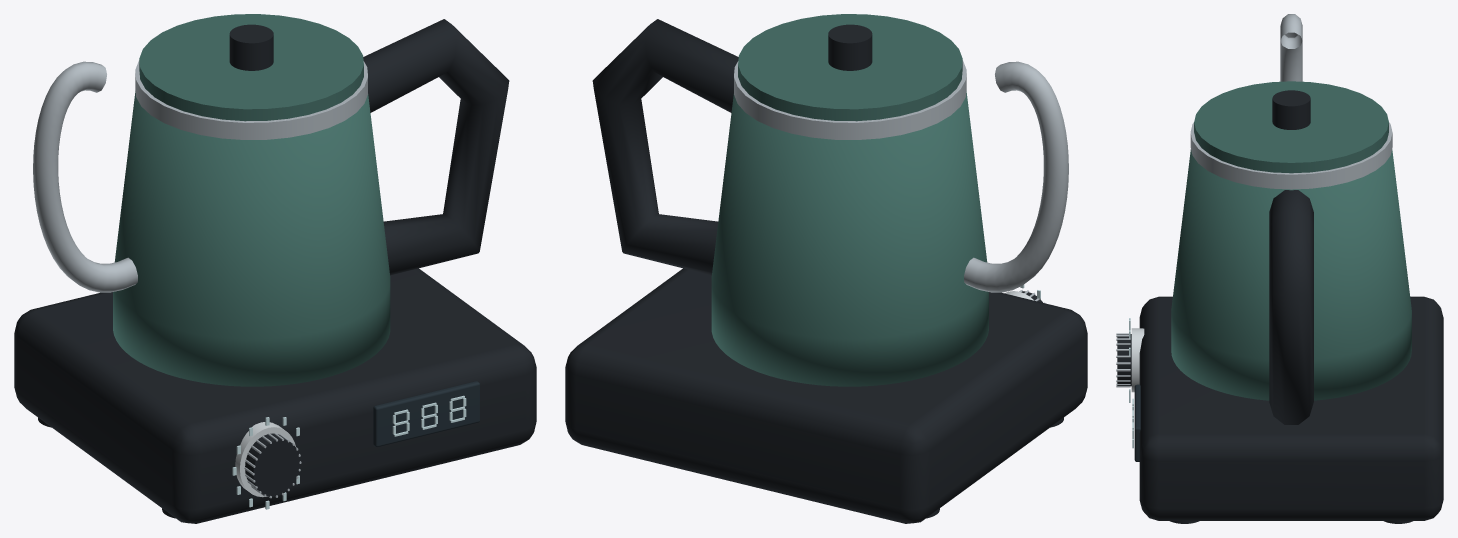
The model's file is gooseneck-pro-kettle.glb.
3 renders of one model, left to right at view 1: azimuth 30°, elevation 25°; view 2: azimuth 150°, elevation 25°; view 3: azimuth 270°, elevation 25°, orthographic. The views are drawn at different scales.
Visible parts, largest first — view 1: gooseneck-pro-kettle; view 2: gooseneck-pro-kettle; view 3: gooseneck-pro-kettle.
Boxes of the visible parts, box(x1,y1,x2,y2) form: gooseneck-pro-kettle: box(14, 14, 536, 523); gooseneck-pro-kettle: box(565, 14, 1087, 523); gooseneck-pro-kettle: box(1116, 14, 1443, 523).
Size of the model in its own units: 0.3 by 0.25 by 0.21.
